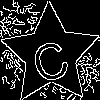C: (25, 29, 73, 86)
